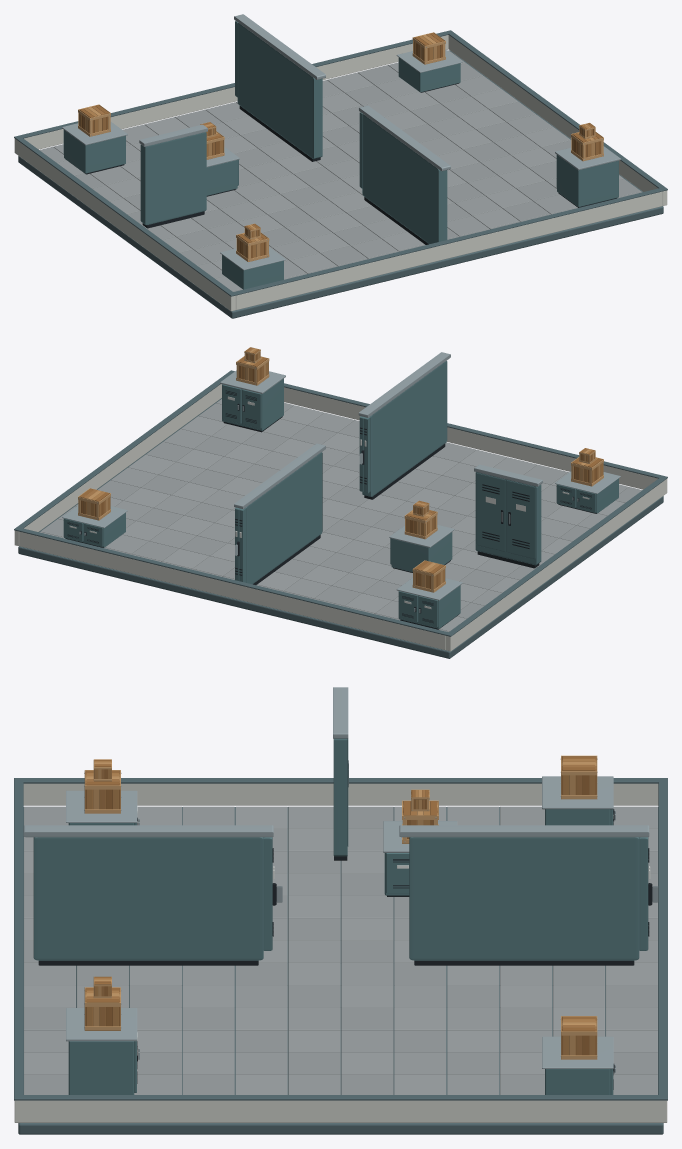
3 renders of one model, top to bottom at view 1: azimuth 30°, elevation 25°; view 2: azimuth 150°, elevation 25°; view 3: azimuth 270°, elevation 25°, orthographic. The views are drawn at different scales.
Visible parts, largest first — view 1: item_1, item_7, Cutaway wall.002, item_11, Floor foundation, Cutaway wall.003, Cutaway wall, item_12, Cutaway wall.001, item_2, Wall coping.002, item_9 (+87 smaller); view 2: item_7, item_1, Cutaway wall.003, item_11, Floor foundation, Cutaway wall.002, Cutaway wall, item_12, Cutaway wall.001, item_2, item_5, Wall coping.003 (+83 smaller); view 3: item_7, item_1, Cutaway wall.001, Cutaway wall, Floor foundation, item_12, Wall coping.001, item_9, Wall coping, Wall coping.002, Wall coping.003, item_11 (+93 smaller).
Part boxes in pixels (bbox=[...]): item_1: bbox=[234, 14, 325, 161]; item_7: bbox=[358, 105, 450, 244]; Cutaway wall.002: bbox=[236, 191, 662, 310]; item_11: bbox=[139, 124, 207, 228]; Floor foundation: bbox=[18, 50, 663, 318]; Cutaway wall.003: bbox=[24, 35, 448, 149]; Cutaway wall: bbox=[14, 138, 235, 311]; item_12: bbox=[555, 146, 620, 207]; Cutaway wall.001: bbox=[448, 35, 667, 205]; item_2: bbox=[62, 122, 127, 174]; Wall coping.002: bbox=[233, 188, 662, 295]; item_9: bbox=[396, 49, 462, 92]; item_7: bbox=[358, 352, 450, 499]; item_1: bbox=[234, 443, 325, 584]; Cutaway wall.003: bbox=[19, 531, 445, 650]; item_11: bbox=[474, 464, 542, 568]; Floor foundation: bbox=[18, 398, 663, 658]; Cutaway wall.002: bbox=[284, 387, 657, 489]; Cutaway wall: bbox=[446, 479, 667, 651]; item_12: bbox=[220, 370, 285, 432]; Cutaway wall.001: bbox=[14, 384, 221, 545]; item_2: bbox=[396, 577, 462, 629]; item_5: bbox=[389, 525, 454, 572]; Wall coping.003: bbox=[19, 528, 448, 635]; item_7: bbox=[23, 825, 282, 965]; item_1: bbox=[399, 825, 658, 965]; Cutaway wall.001: bbox=[14, 1100, 667, 1122]; Cutaway wall: bbox=[23, 783, 658, 805]; Floor foundation: bbox=[18, 807, 663, 1134]; item_12: bbox=[66, 1008, 139, 1094]; Wall coping.001: bbox=[14, 1095, 667, 1100]; item_9: bbox=[542, 1036, 615, 1094]; Wall coping: bbox=[14, 778, 667, 783]; Wall coping.002: bbox=[14, 781, 23, 1094]; Wall coping.003: bbox=[658, 781, 667, 1094]; item_11: bbox=[333, 687, 348, 860].
Size of the model in its own units: 14.36 by 3.09 by 12.36.
